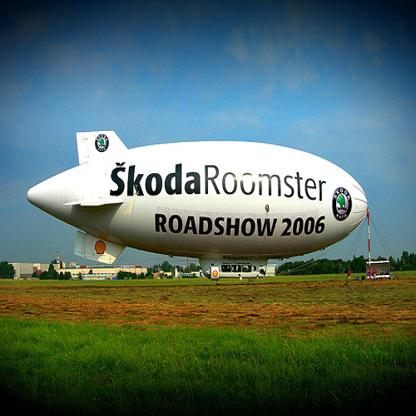Airship: (21, 127, 391, 287)
